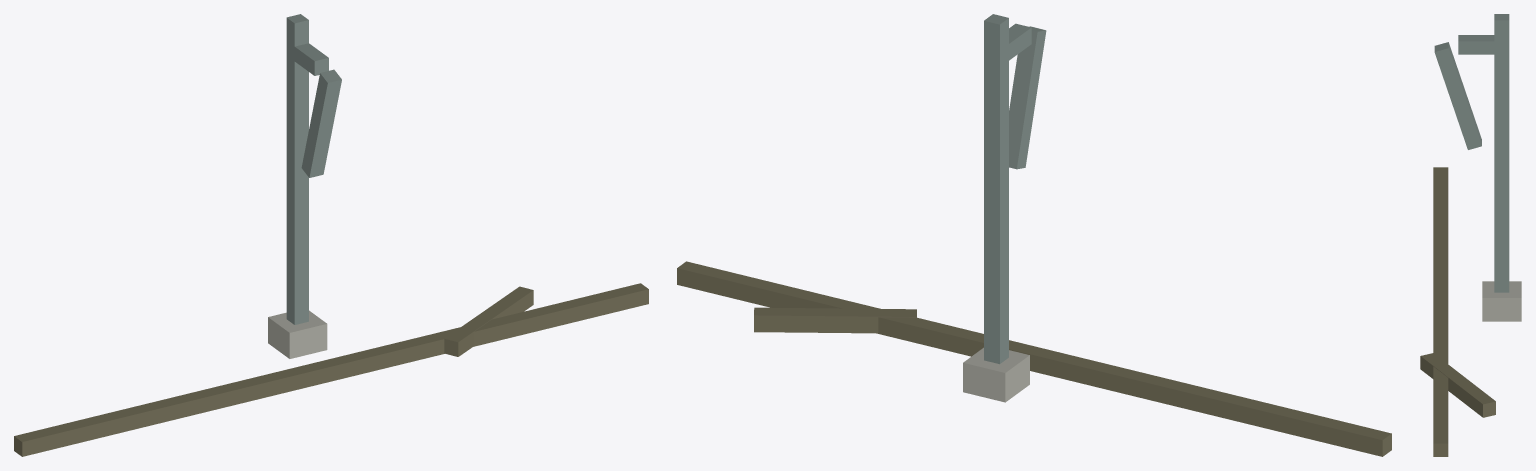
The model's file is SM_CatenariaCaida_v1_MensulaRota_LOD1.fbx.
The picture shows the model from 3 angles, left to right: view 1: azimuth 30°, elevation 25°; view 2: azimuth 150°, elevation 25°; view 3: azimuth 270°, elevation 25°; orthographic projection. The views are drawn at different scales.
Visible parts, largest first — view 1: SM_aqui_paso_algo_v11_LOD1; view 2: SM_aqui_paso_algo_v11_LOD1; view 3: SM_aqui_paso_algo_v11_LOD1.
Part boxes in pixels (x1,y1,x2,y2): SM_aqui_paso_algo_v11_LOD1: (14, 14, 648, 456); SM_aqui_paso_algo_v11_LOD1: (677, 14, 1391, 456); SM_aqui_paso_algo_v11_LOD1: (1420, 14, 1521, 456).
Size of the model in its own units: 15 by 7.64 by 2.32.
